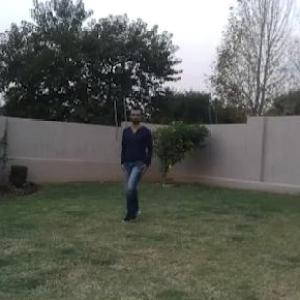follow: (119, 107, 152, 218)
